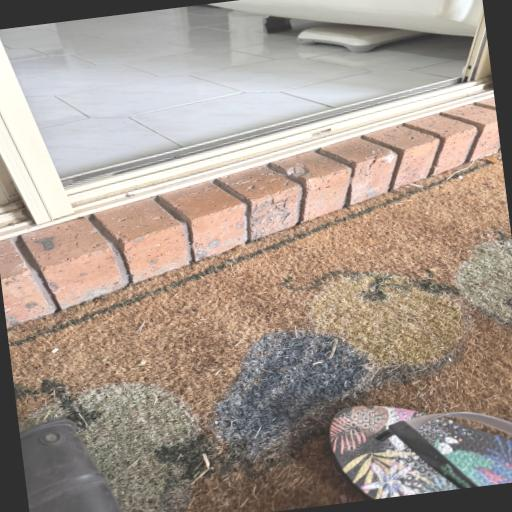step: (66, 80, 500, 283)
